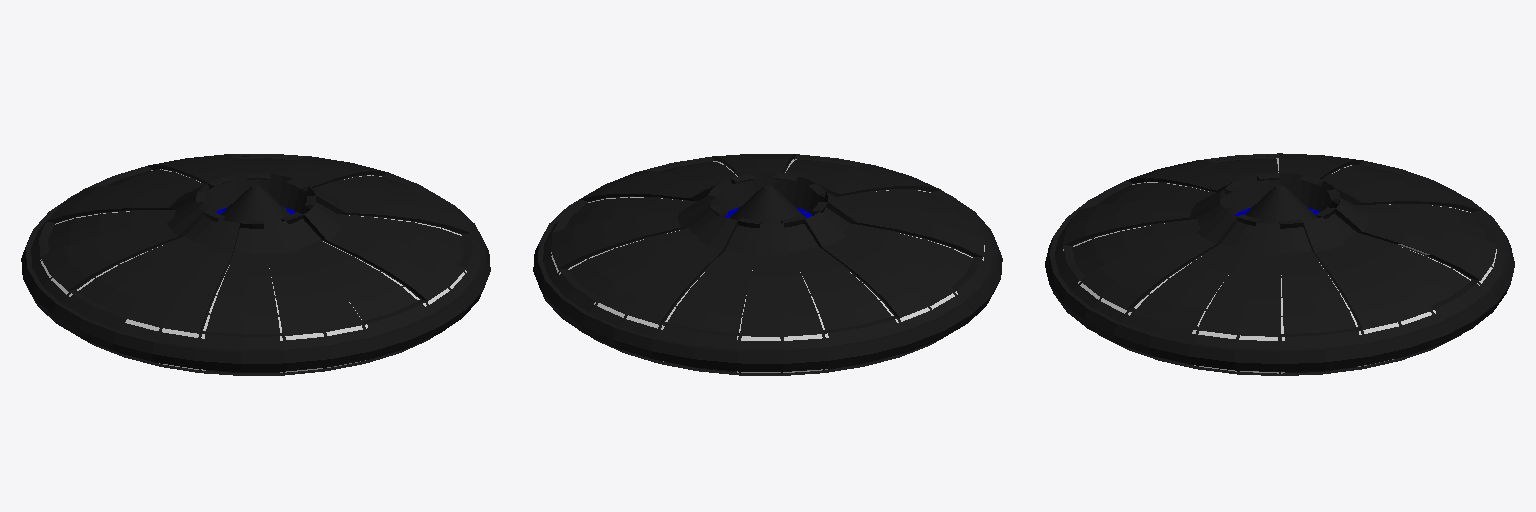
The model's file is aircraft.obj.
3 renders of one model, left to right at view 1: azimuth 30°, elevation 25°; view 2: azimuth 150°, elevation 25°; view 3: azimuth 270°, elevation 25°, orthographic.
Visible parts, largest first — view 1: BODY_Sphere, B_LIGHT_Sphere.001; view 2: BODY_Sphere, B_LIGHT_Sphere.001; view 3: BODY_Sphere, B_LIGHT_Sphere.001.
Part boxes in pixels (bbox=[...]): BODY_Sphere: bbox=[21, 154, 490, 375]; B_LIGHT_Sphere.001: bbox=[40, 169, 466, 372]; BODY_Sphere: bbox=[533, 154, 1002, 375]; B_LIGHT_Sphere.001: bbox=[551, 159, 984, 372]; BODY_Sphere: bbox=[1045, 153, 1514, 375]; B_LIGHT_Sphere.001: bbox=[1063, 158, 1496, 373].
Size of the model in its own units: 2 by 0.6548 by 2.